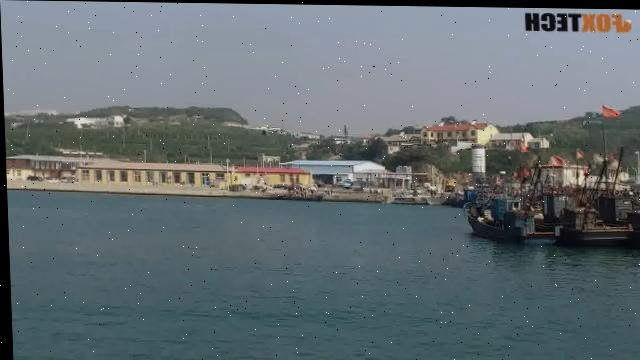drone: (218, 90, 309, 162)
